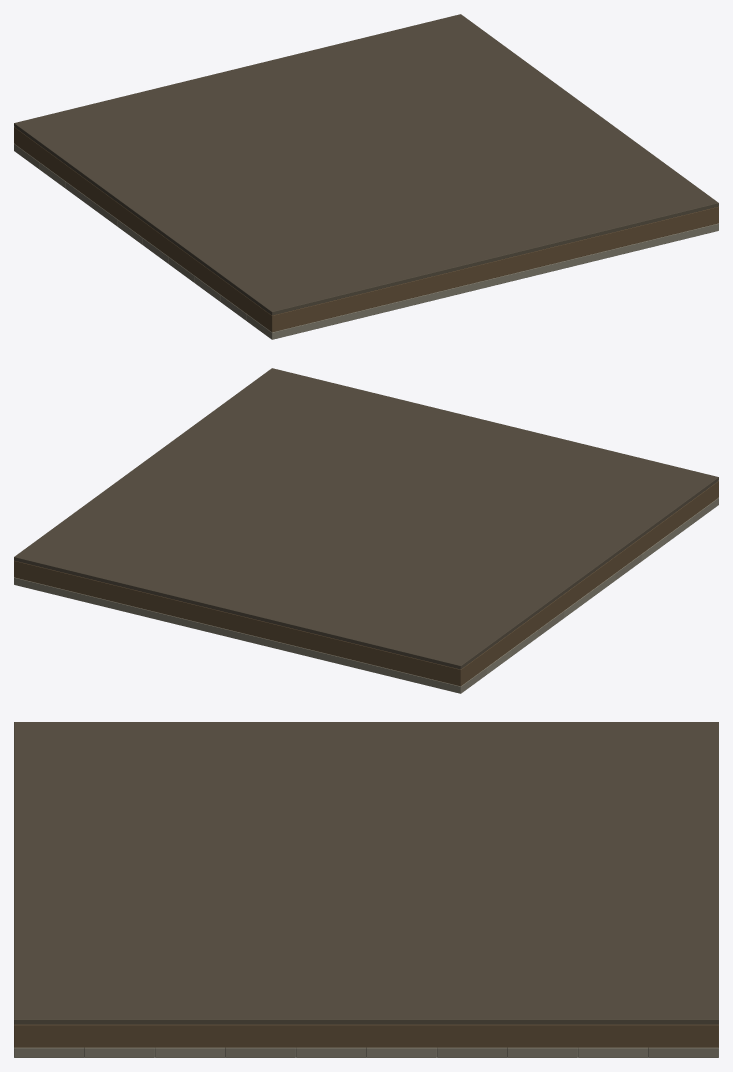
The model's file is SM_Henhouse_Ceiling_500_A.fbx.
3 renders of one model, top to bottom at view 1: azimuth 30°, elevation 25°; view 2: azimuth 150°, elevation 25°; view 3: azimuth 270°, elevation 25°, orthographic. The views are drawn at different scales.
Visible parts, largest first — view 1: SM_Henhouse_Ceiling_500_A; view 2: SM_Henhouse_Ceiling_500_A; view 3: SM_Henhouse_Ceiling_500_A.
Boxes of the visible parts, x1,y1,x2,y2 form: SM_Henhouse_Ceiling_500_A: (14,14,718,339); SM_Henhouse_Ceiling_500_A: (14,368,718,693); SM_Henhouse_Ceiling_500_A: (14,722,718,1057).
Size of what is drawn, in the model's own units: 500 by 500 by 30.
